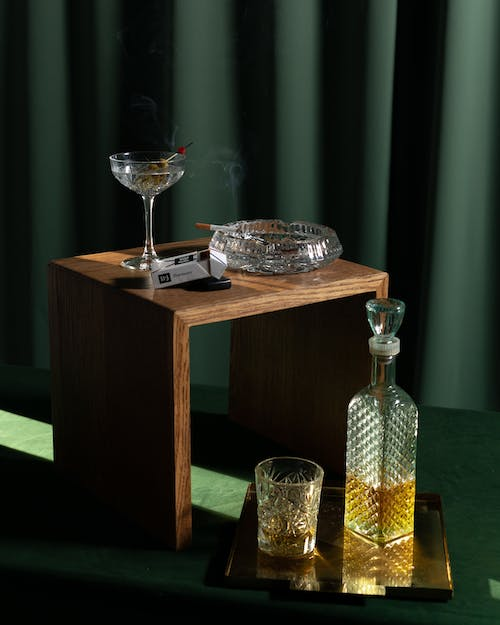alcohol: (338, 335, 422, 546), (108, 149, 190, 272), (254, 453, 326, 561)
cigarette: (149, 246, 229, 293), (193, 220, 243, 236)
